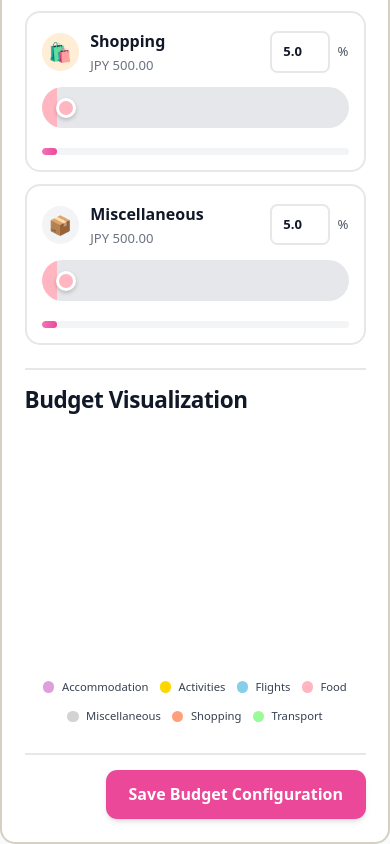
Test: BudgetSetupSection › Save Functionality › should show error message when save fails
The width and height of the screenshot is (390, 844).
Click the button labelled "Save Budget Configuration". click: (236, 795)
box: [106,770,366,819]
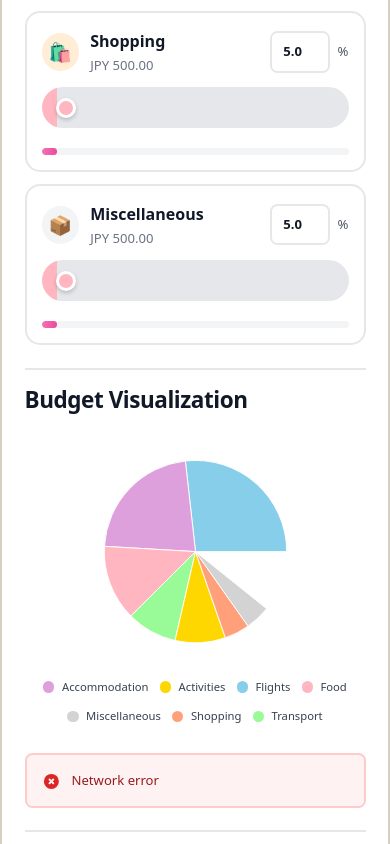
Expected: the text "Network error" is shown, [72,770,159,791]
